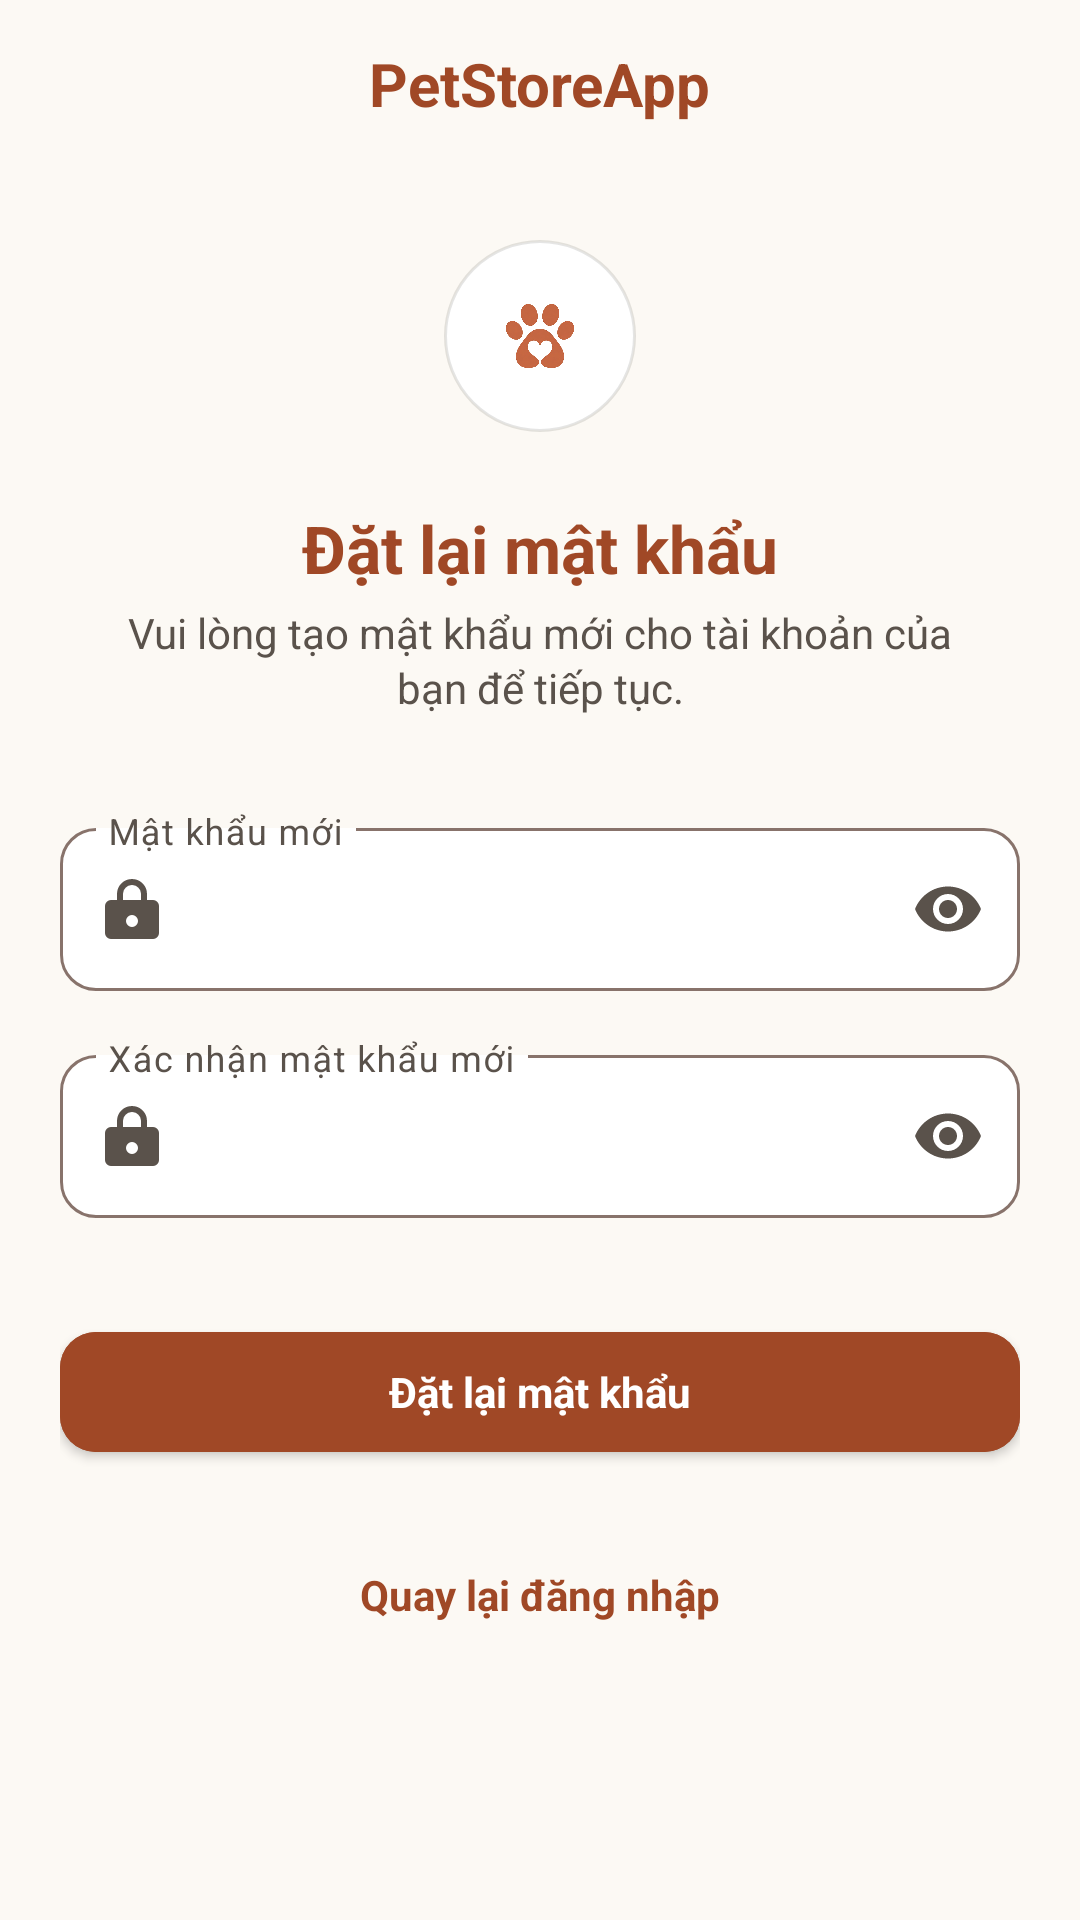

Screen size 1080px×1920px. Icon name, then its center in pixels as point (x, y):
PetStoreApp Paw Icon: point (540, 336)
